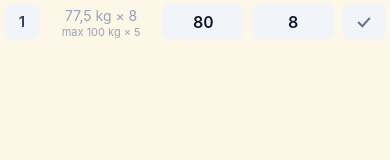
it: SetRow › shows the previous values and copies them on tap
The width and height of the screenshot is (390, 160).
Step 1. Click the button with aria-label "Usa precedente serie 1" → (101, 15), box [48,5,154,26]
Wait 500 ms
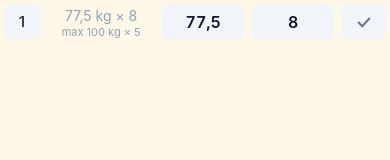
Check: the field named "Rip. serie 1" holds "8", box [252,4,334,40]
Check: the field named "kg serie 1" holds "77,5", box [162,4,244,40]
